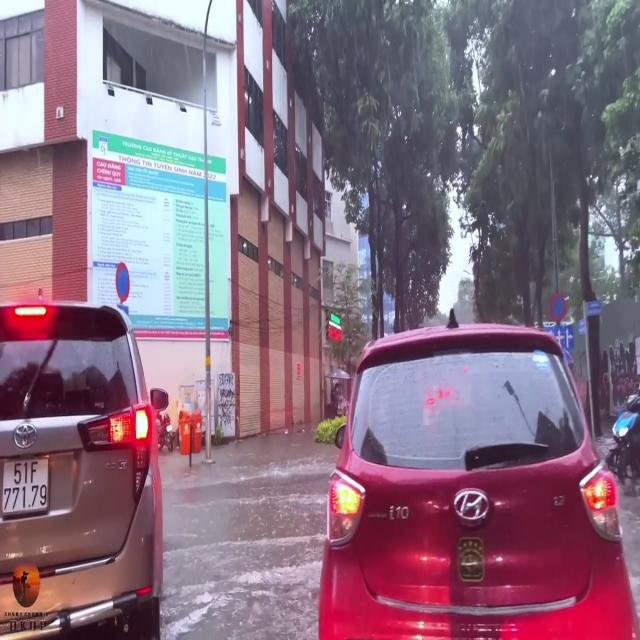bien_trang: (1, 456, 51, 516)
